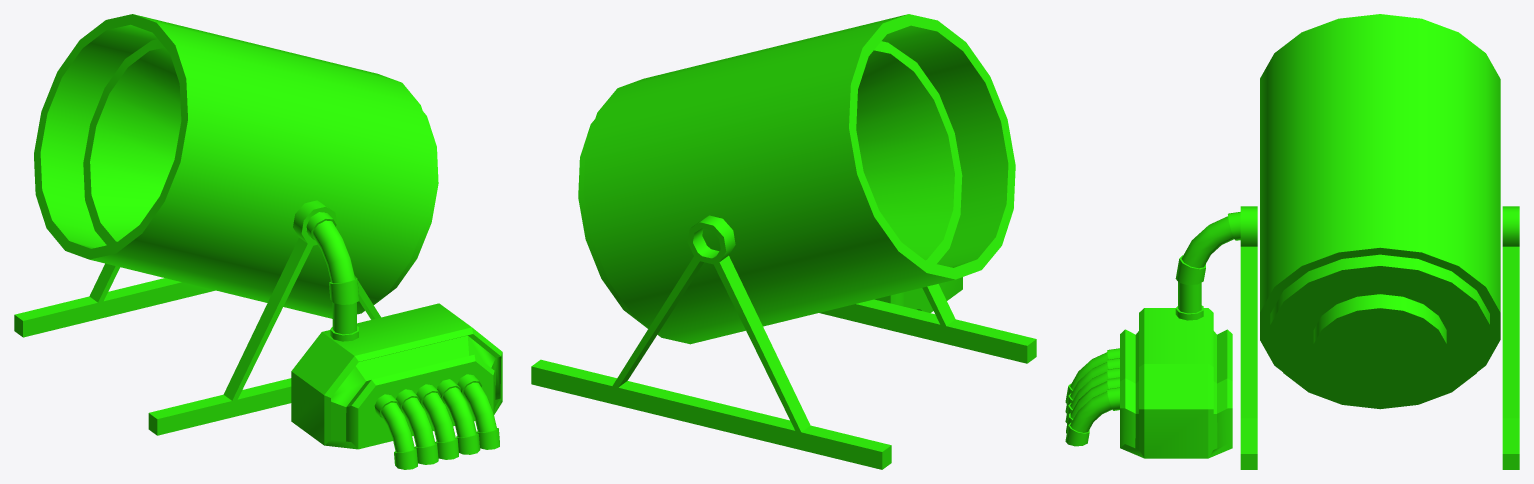
File: LP_Spot_Light_Mesh1_ID.FBX
The picture shows the model from 3 angles, left to right: view 1: azimuth 30°, elevation 25°; view 2: azimuth 150°, elevation 25°; view 3: azimuth 270°, elevation 25°; orthographic projection. The views are drawn at different scales.
Visible parts, largest first — view 1: L_spot light; view 2: L_spot light; view 3: L_spot light.
Part boxes in pixels (bbox=[...]): L_spot light: bbox=[14, 14, 502, 469]; L_spot light: bbox=[531, 14, 1036, 469]; L_spot light: bbox=[1065, 14, 1519, 469].
Size of the model in its own units: 36.3 by 35.37 by 42.36.
